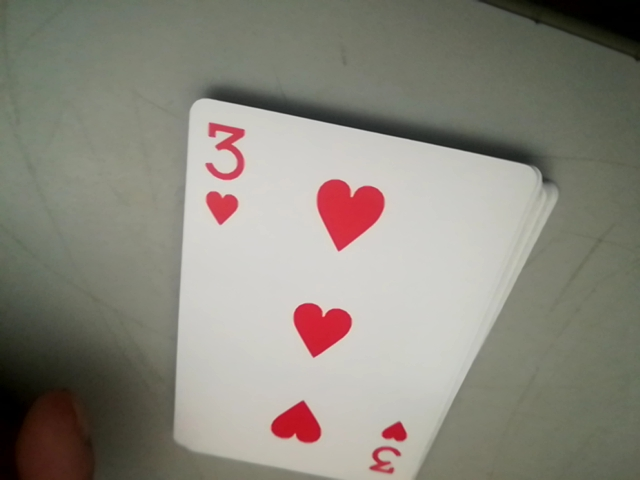hx 3: (205, 120, 247, 229), (362, 421, 413, 480)
